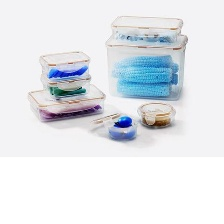plastic_box: (99, 10, 192, 104), (23, 79, 109, 126), (34, 44, 96, 104), (84, 108, 142, 145), (132, 97, 179, 132)
